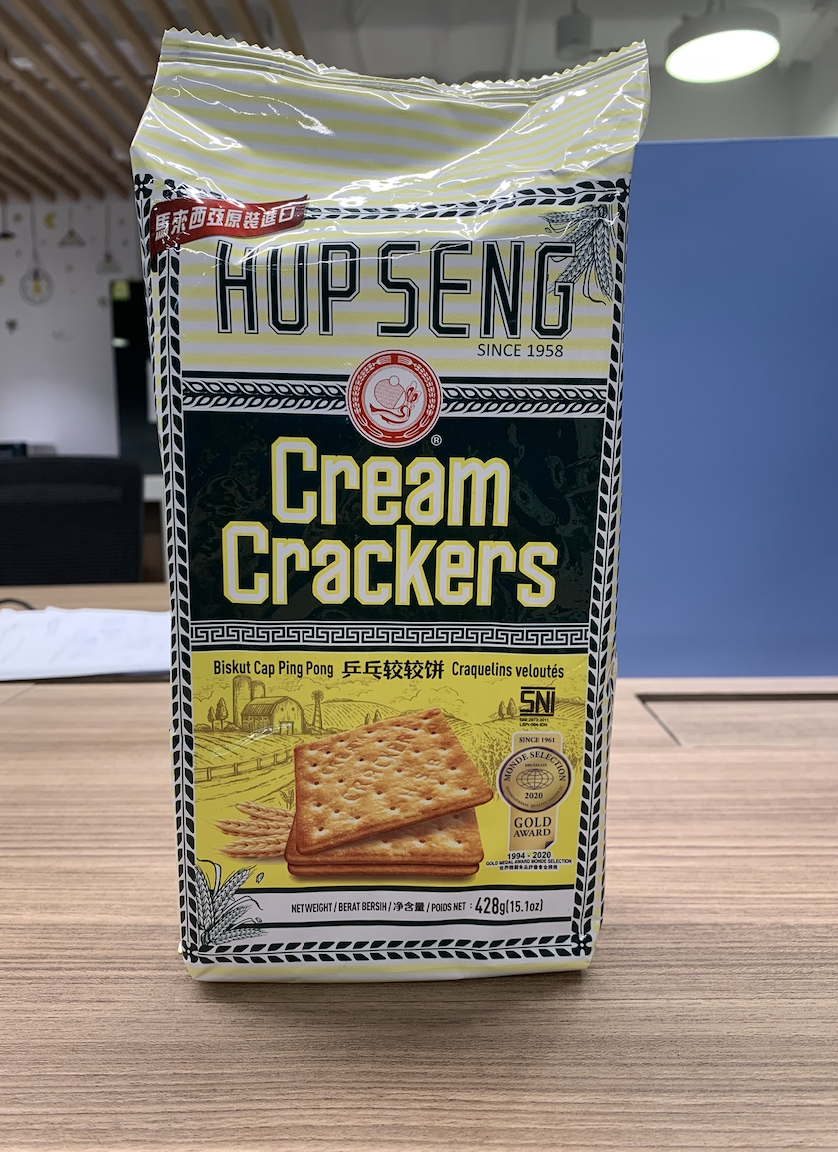crackers_450g: (148, 38, 605, 967)
